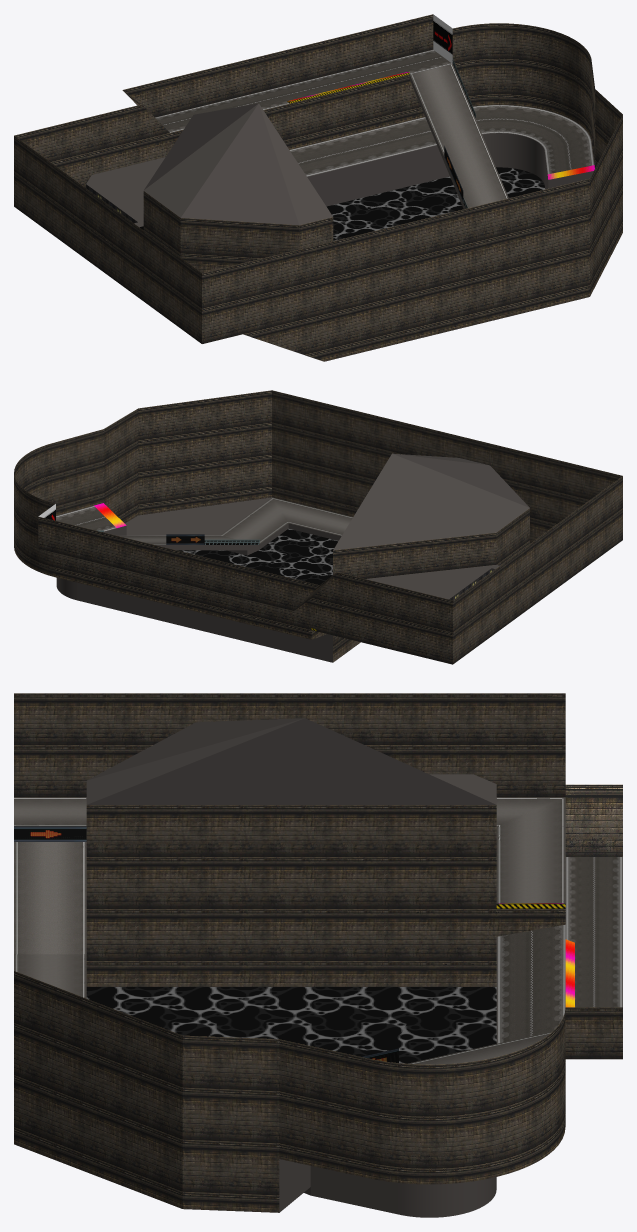
The picture shows the model from 3 angles, top to bottom: view 1: azimuth 30°, elevation 25°; view 2: azimuth 150°, elevation 25°; view 3: azimuth 270°, elevation 25°; orthographic projection. The views are drawn at different scales.
Parts seen in each view (by area): view 1: dadim2-SKP-did_brickwall.001, dadim2-SKP-did_pave.001, dadim2-SKP-did_road1.001, dadim2-SKP-did_road2.001, dadim2-SKP-did_water.001, dadim2-SKP-did_lights2.001; view 2: dadim2-SKP-did_brickwall.001, dadim2-SKP-did_pave.001, dadim2-SKP-did_water.001, dadim2-SKP-did_road2.001, dadim2-SKP-did_road1.001, dadim2-SKP-did_railarrow.001; view 3: dadim2-SKP-did_brickwall.001, dadim2-SKP-did_pave.001, dadim2-SKP-did_water.001, dadim2-SKP-did_road2.001, dadim2-SKP-did_road1.001, dadim2-SKP-did_railarrow.001, dadim2-SKP-did_boostref.001.
Boxes of the visible parts, box(x1,y1,x2,y2) form: dadim2-SKP-did_brickwall.001: box(14, 14, 622, 361); dadim2-SKP-did_pave.001: box(86, 75, 593, 227); dadim2-SKP-did_road1.001: box(155, 50, 594, 176); dadim2-SKP-did_road2.001: box(410, 64, 508, 208); dadim2-SKP-did_water.001: box(326, 167, 545, 240); dadim2-SKP-did_lights2.001: box(433, 14, 452, 63); dadim2-SKP-did_brickwall.001: box(14, 390, 622, 664); dadim2-SKP-did_pave.001: box(56, 453, 529, 662); dadim2-SKP-did_water.001: box(177, 528, 338, 584); dadim2-SKP-did_road2.001: box(117, 497, 352, 544); dadim2-SKP-did_road1.001: box(56, 506, 116, 531); dadim2-SKP-did_railarrow.001: box(166, 534, 204, 544); dadim2-SKP-did_brickwall.001: box(14, 693, 622, 1212); dadim2-SKP-did_pave.001: box(86, 718, 496, 1217); dadim2-SKP-did_water.001: box(86, 987, 496, 1063); dadim2-SKP-did_road2.001: box(14, 797, 565, 1064); dadim2-SKP-did_road1.001: box(496, 857, 622, 1043); dadim2-SKP-did_railarrow.001: box(14, 826, 398, 1062); dadim2-SKP-did_boostref.001: box(499, 903, 574, 1007).
Size of the model in its own units: 45900 by 15500 by 31800.
13 materials, 13 textured.
